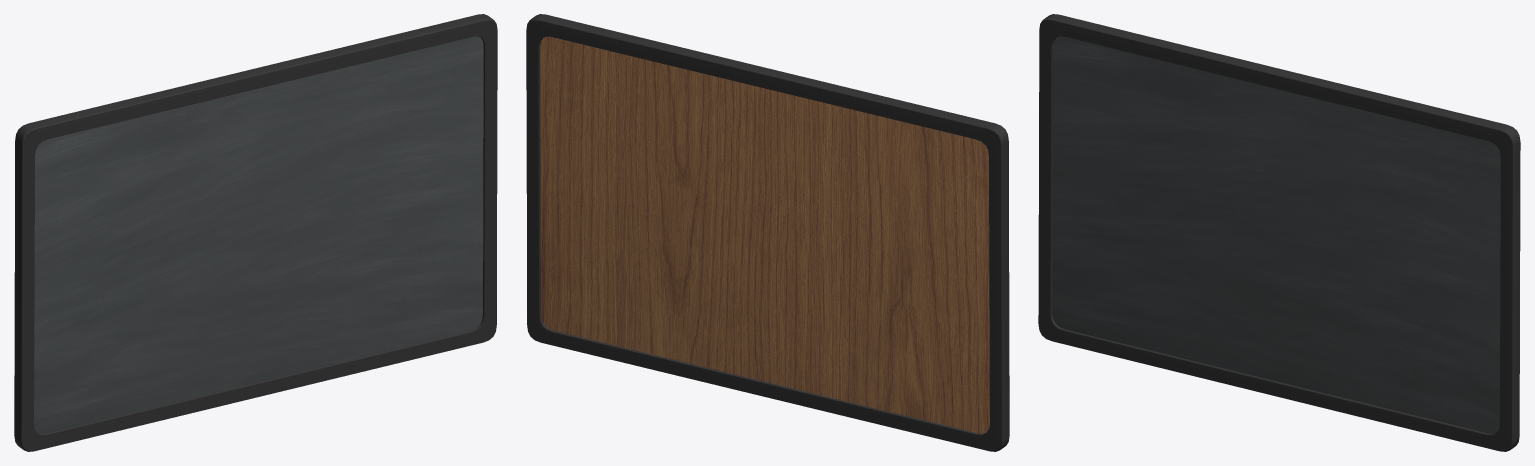
Rendered from SM_pinboard_02.fbx.
3 renders of one model, left to right at view 1: azimuth 30°, elevation 25°; view 2: azimuth 150°, elevation 25°; view 3: azimuth 330°, elevation 25°, orthographic.
Parts seen in each view (by area): view 1: pinboard02; view 2: pinboard02; view 3: pinboard02.
Part boxes in pixels (bbox=[...]): pinboard02: bbox=[14, 14, 497, 451]; pinboard02: bbox=[526, 14, 1009, 451]; pinboard02: bbox=[1038, 14, 1520, 451].
Size of the model in its own units: 86.23 by 55.99 by 2.54.
Materials: 3 (2 with a texture image).
